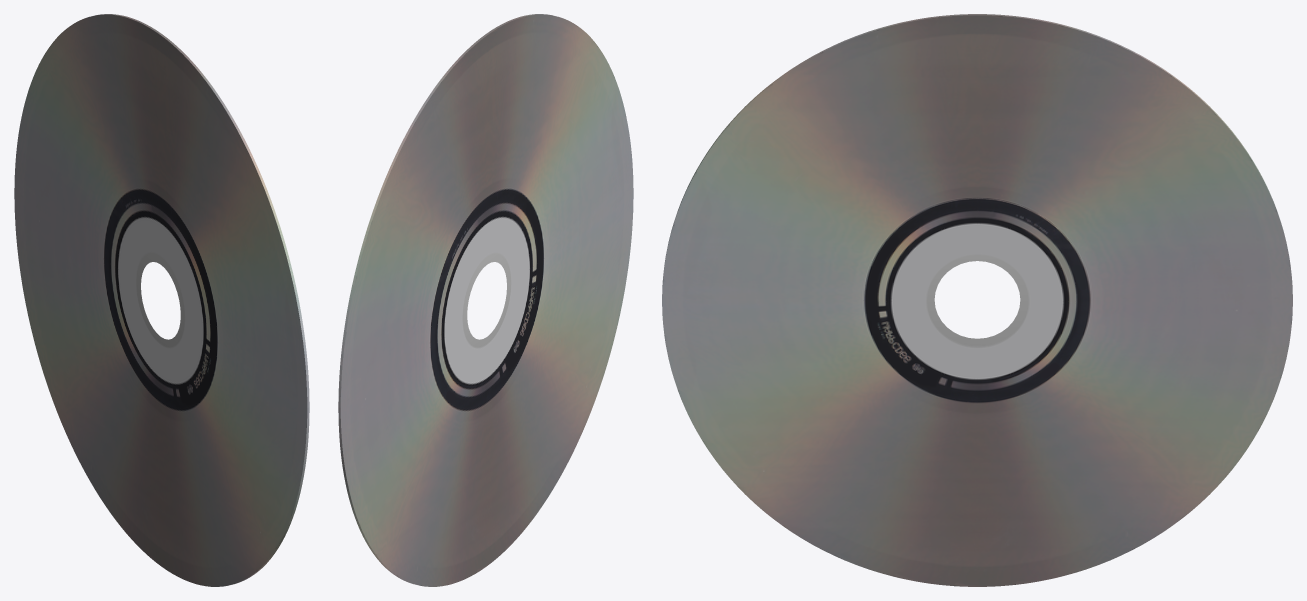
File: disque.glb
The picture shows the model from 3 angles, left to right: view 1: azimuth 30°, elevation 25°; view 2: azimuth 150°, elevation 25°; view 3: azimuth 270°, elevation 25°; orthographic projection. The views are drawn at different scales.
Visible parts, largest first — view 1: CD_1; view 2: CD_1; view 3: CD_1.
Part boxes in pixels (x1,y1,x2,y2): CD_1: [14, 14, 309, 586]; CD_1: [338, 14, 633, 586]; CD_1: [662, 14, 1292, 586].
Size of the model in its own units: 0.0111 by 1.87 by 1.87.
2 materials, 2 textured.
